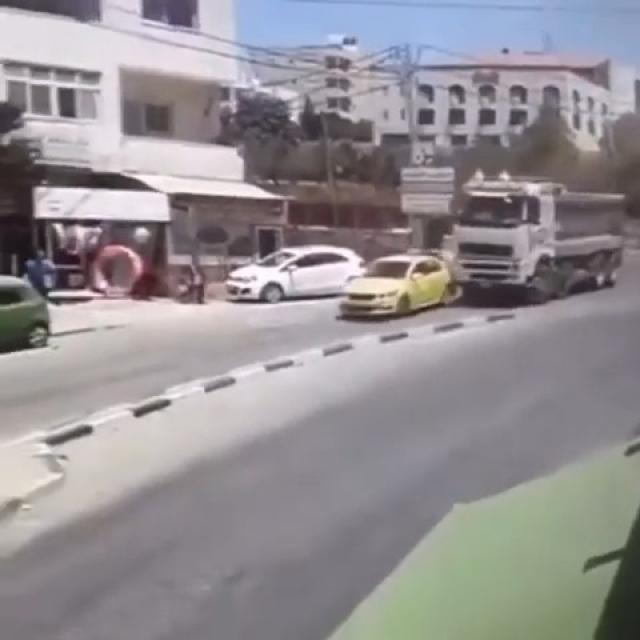accident: (332, 179, 637, 318)
